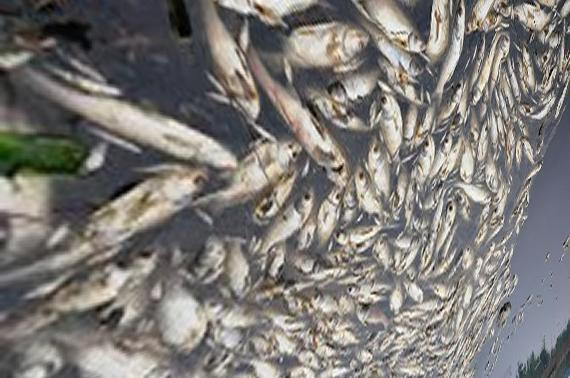Dead Animals Pollution: (51, 0, 554, 377)
